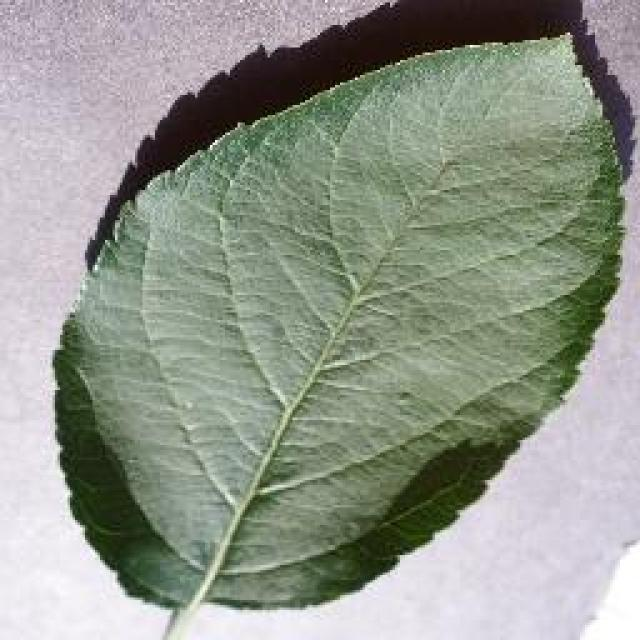apple healthy: (50, 20, 630, 618)
